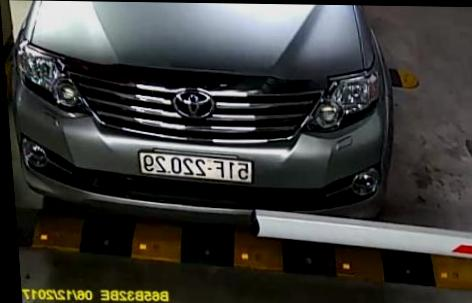License_Plate: (141, 150, 256, 187)
